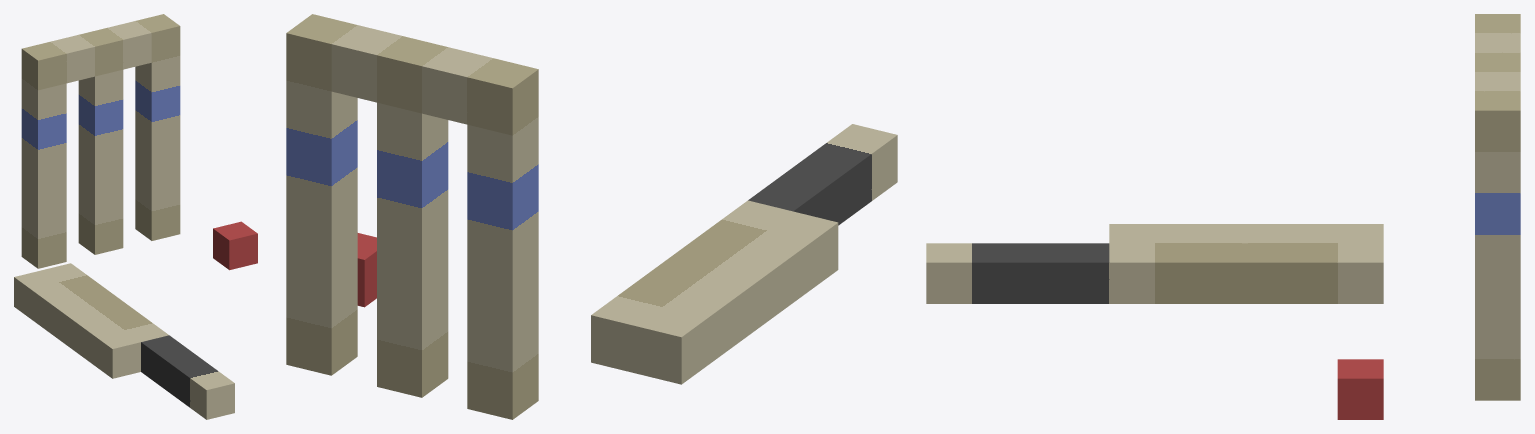
File: cricket.obj
The picture shows the model from 3 angles, left to right: view 1: azimuth 30°, elevation 25°; view 2: azimuth 150°, elevation 25°; view 3: azimuth 270°, elevation 25°; orthographic projection. The views are drawn at different scales.
Visible parts, largest first — view 1: Box_55; view 2: Box_55; view 3: Box_55.
Part boxes in pixels (x1,y1,x2,y2): Box_55: [14, 14, 257, 419]; Box_55: [286, 14, 897, 419]; Box_55: [926, 14, 1520, 419].
Size of the model in its own units: 8 by 7 by 13.
Materials: 1 (1 with a texture image).
